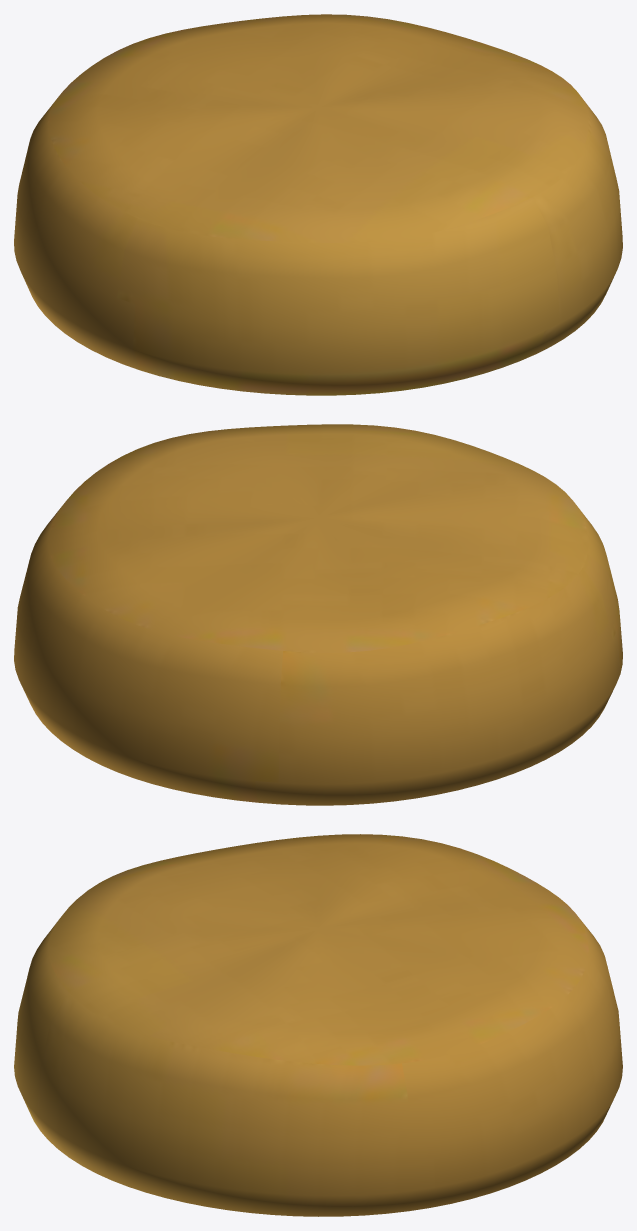
Rendered from beeswax.glb.
3 views of the same model, one above another, from view 1: azimuth 30°, elevation 25°; view 2: azimuth 150°, elevation 25°; view 3: azimuth 270°, elevation 25° (orthographic).
Visible parts, largest first — view 1: beeswax; view 2: beeswax; view 3: beeswax.
Boxes of the visible parts, x1=… form: beeswax: x1=14, y1=14, x2=622, y2=395; beeswax: x1=14, y1=424, x2=622, y2=805; beeswax: x1=14, y1=834, x2=622, y2=1216.
Bounding box in the file's own units: 0.0893 × 0.029 × 0.0893.
1 material, 1 textured.
